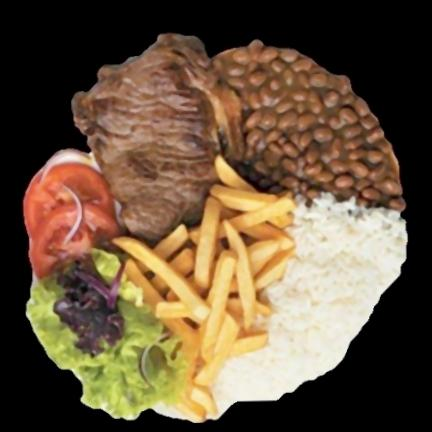beans: (214, 40, 405, 210)
meat: (73, 33, 243, 242)
potato: (114, 155, 296, 385)
rice: (213, 195, 408, 413)
salad: (27, 249, 188, 417)
tomato: (24, 161, 119, 278)
